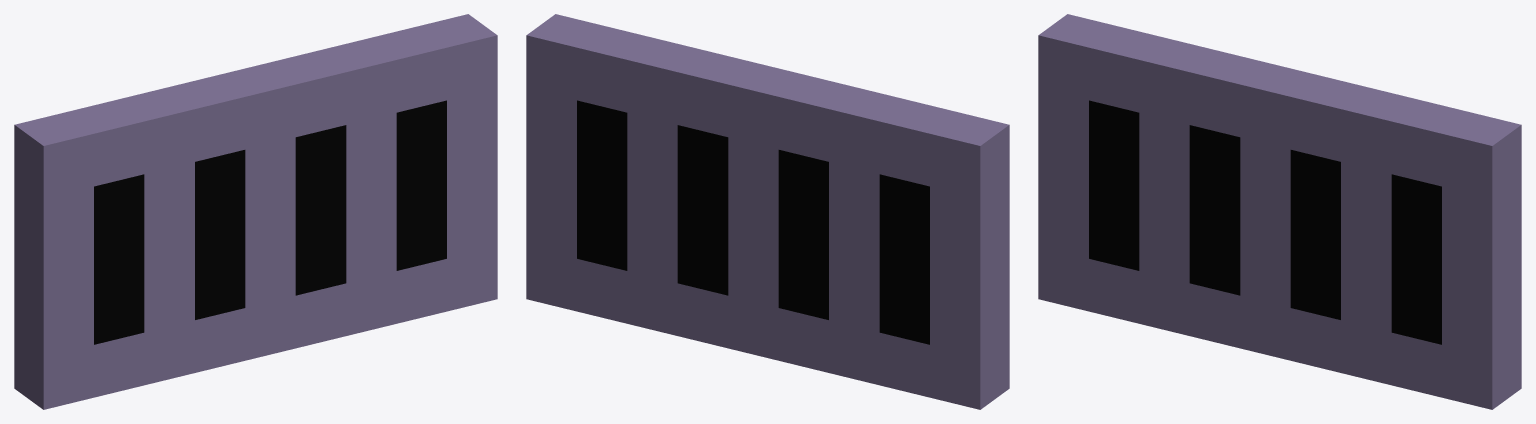
Rendered from wall_grate_a.obj.
3 views of the same model, side by side, from view 1: azimuth 30°, elevation 25°; view 2: azimuth 150°, elevation 25°; view 3: azimuth 330°, elevation 25° (orthographic).
Bounding box in the file's own units: 0.9 × 0.5 × 0.1.
1 material, 1 textured.
